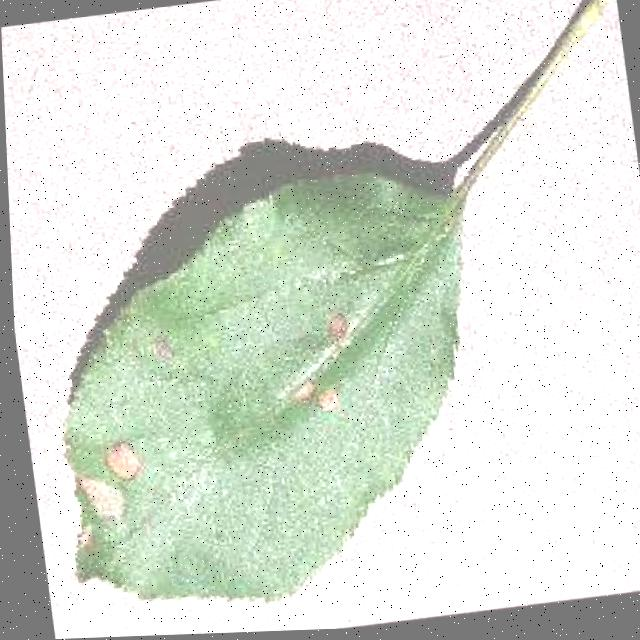black_rot: (63, 471, 142, 554), (98, 435, 154, 487), (302, 378, 354, 429), (324, 307, 365, 358)
